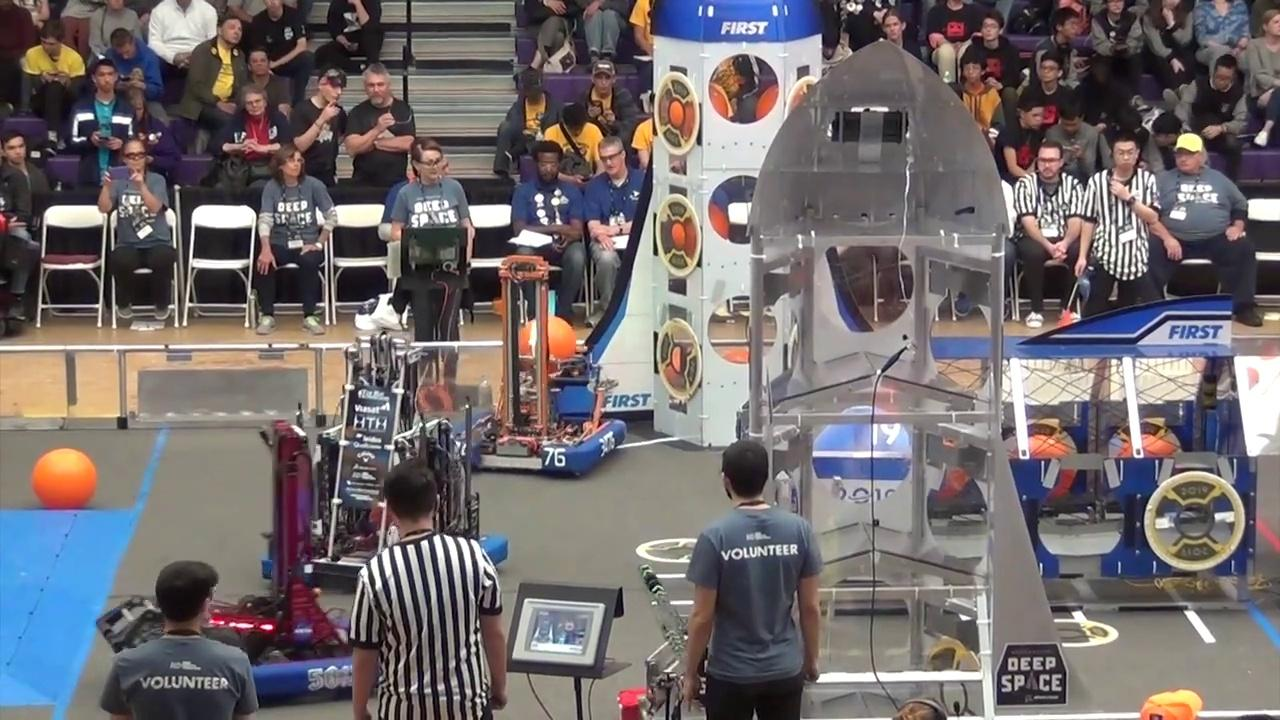robot: (260, 337, 513, 576), (193, 414, 370, 703), (453, 255, 630, 481)
